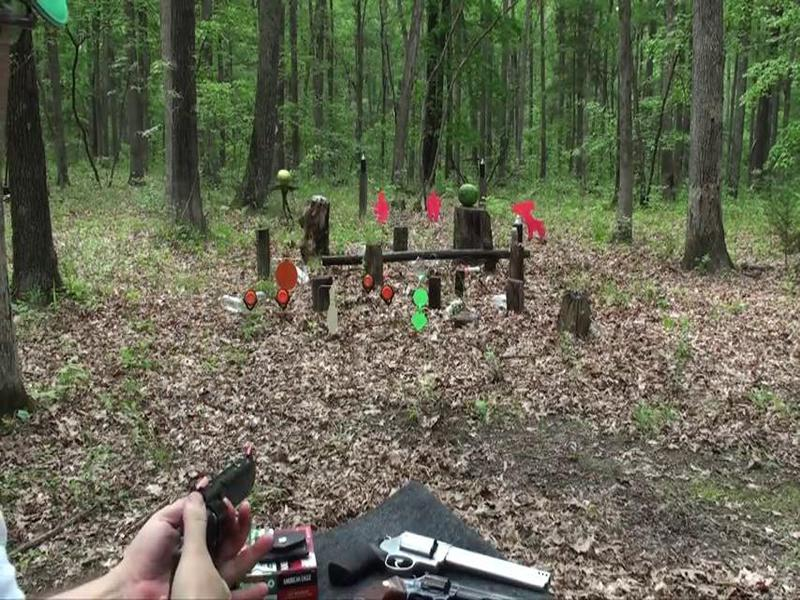Revolver: (153, 444, 283, 600)
